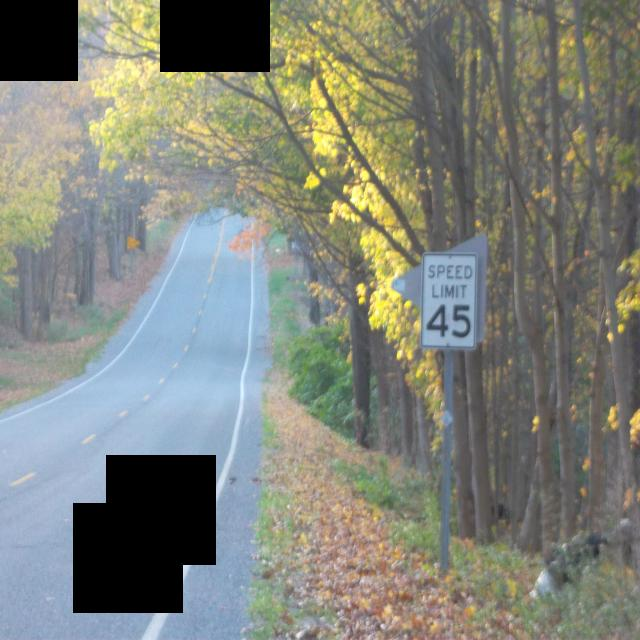regulatory: (418, 252, 479, 351)
